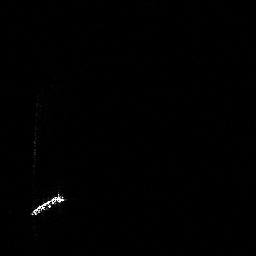ship: (27, 190, 67, 218)
